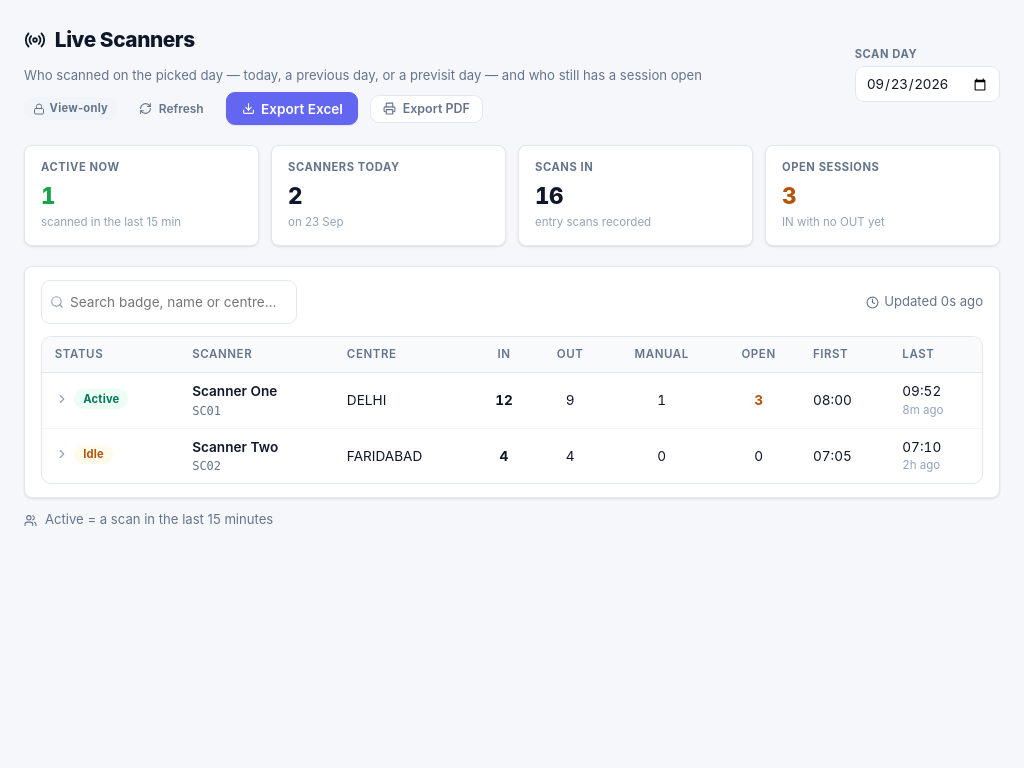
Test: L2 — the open-session drill-down is fetched lazily › lists that scanner's open sessions when the row is expanded
The width and height of the screenshot is (1024, 768).
Click the button with aria-label "open sessions for scanner one": (92, 399) [55,389,128,409]
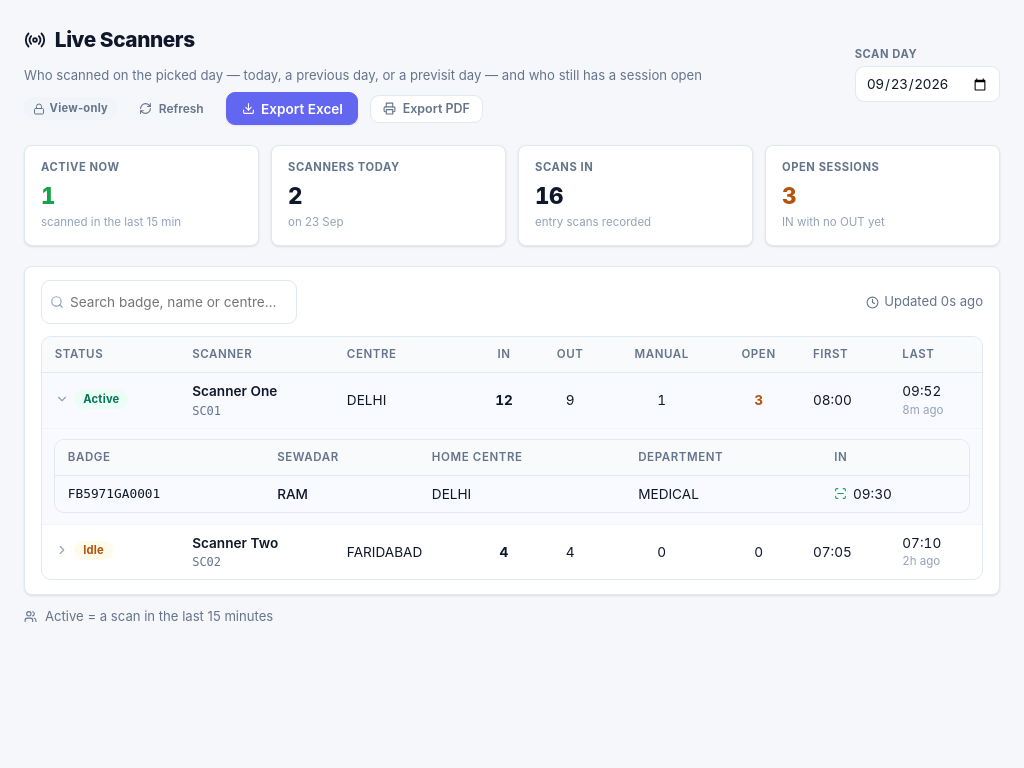
Now the text "RAM" is shown, box [264,475,419,512]
Now the text "FB5971GA0001" is shown, box [55,475,264,512]
